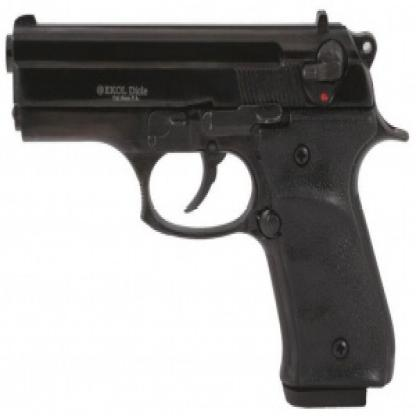Guns: (2, 6, 410, 408)
